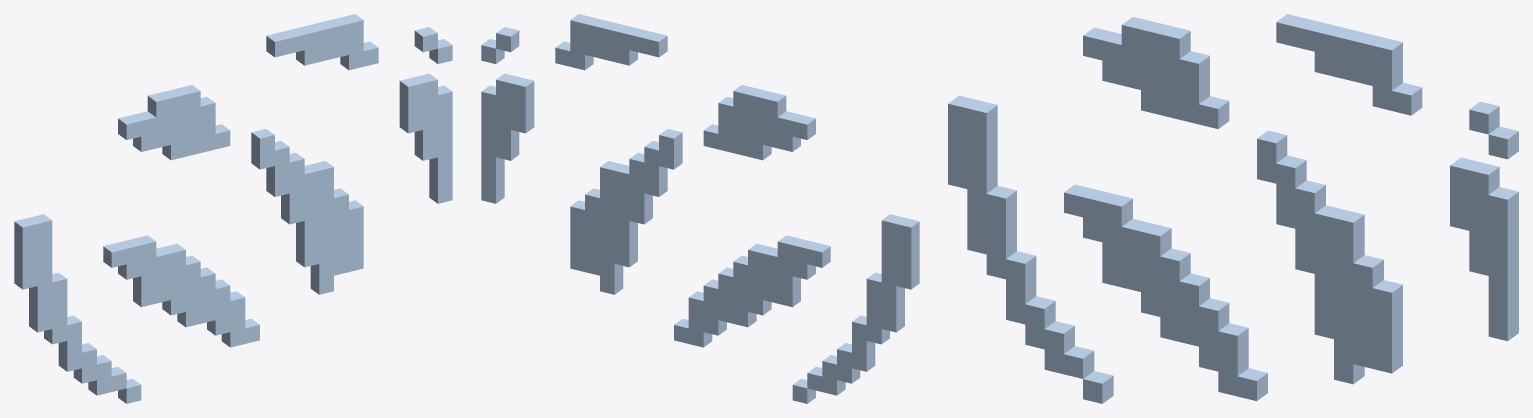
Rendered from Fight_724_2_06_fx.obj.
The picture shows the model from 3 angles, left to right: view 1: azimuth 30°, elevation 25°; view 2: azimuth 150°, elevation 25°; view 3: azimuth 330°, elevation 25°; orthographic projection. The views are drawn at different scales.
Bounding box in the file's own units: 2.9 × 2.1 × 0.1.
1 material, 1 textured.
